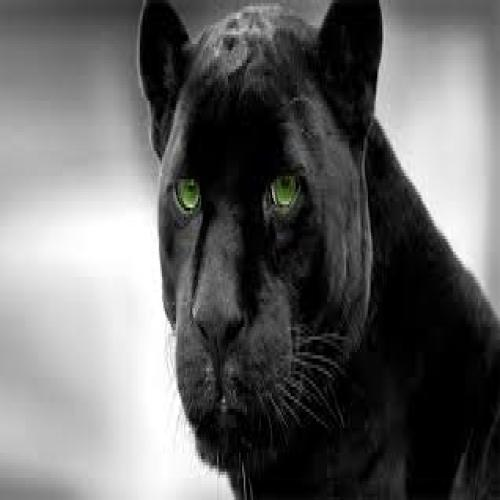panther-endangered: (135, 0, 500, 500)
